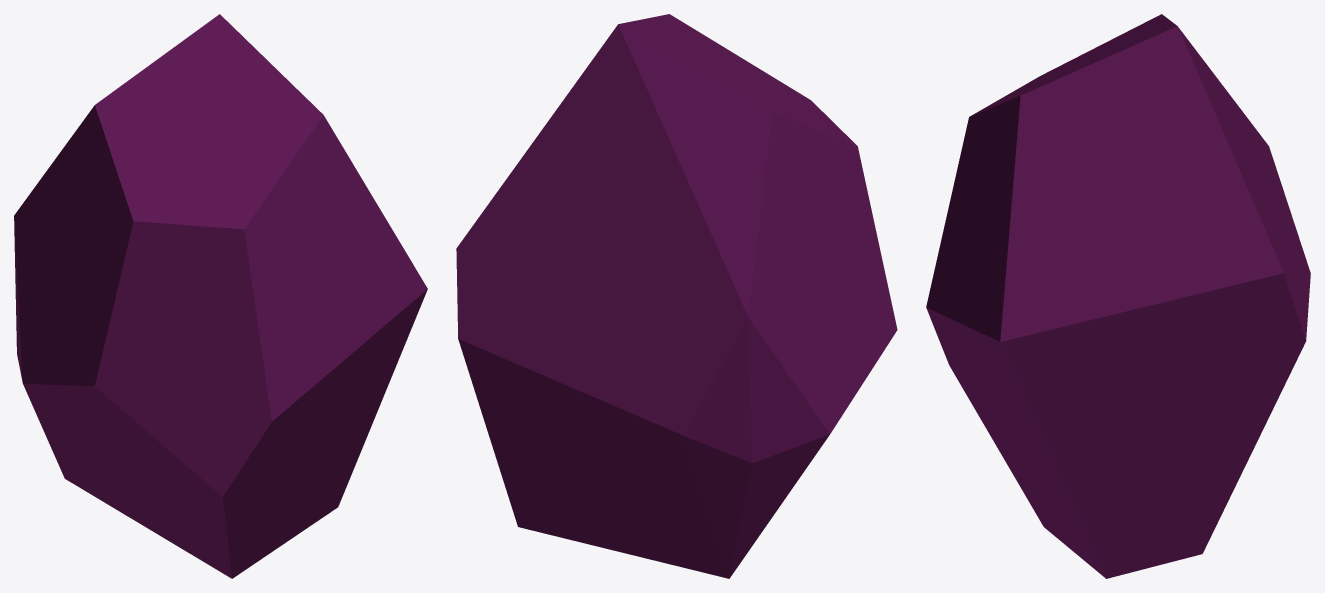
The model's file is BlackStone2.fbx.
The picture shows the model from 3 angles, left to right: view 1: azimuth 30°, elevation 25°; view 2: azimuth 150°, elevation 25°; view 3: azimuth 270°, elevation 25°; orthographic projection. The views are drawn at different scales.
Parts seen in each view (by area): view 1: Cube.004; view 2: Cube.004; view 3: Cube.004.
Part boxes in pixels (x1,y1,x2,y2): Cube.004: (14,14,427,578); Cube.004: (456,14,897,578); Cube.004: (926,14,1310,578).
Bounding box in the file's own units: 149 × 227 × 150.
